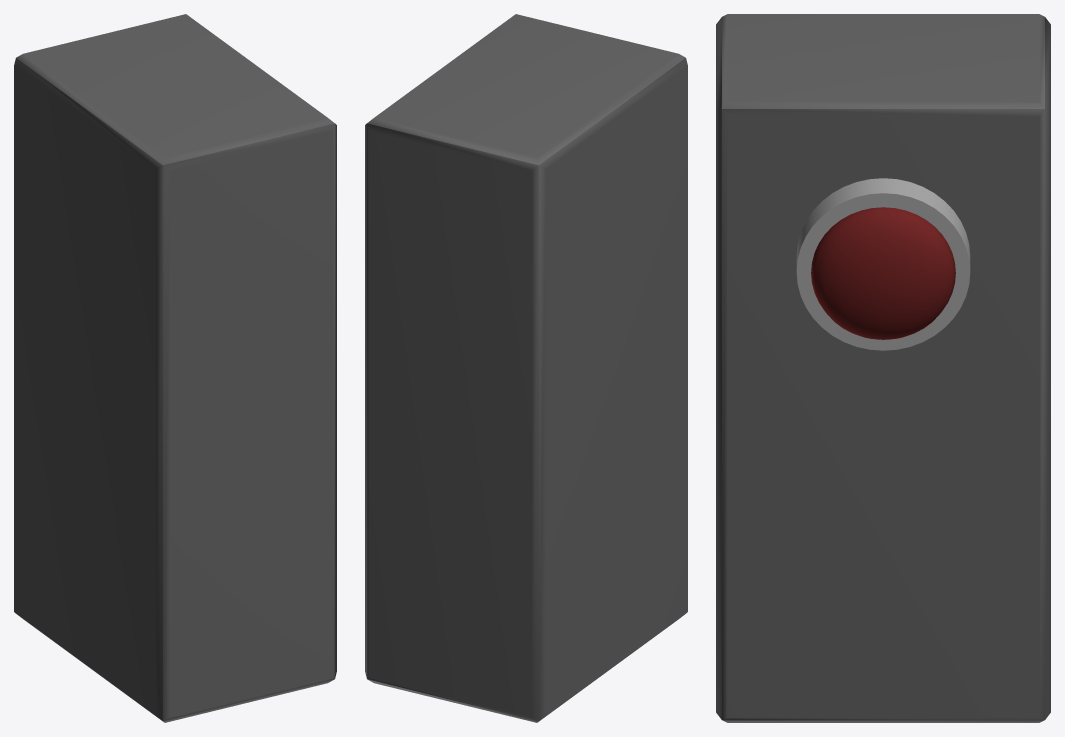
Rendered from botonera.fbx.
3 renders of one model, left to right at view 1: azimuth 30°, elevation 25°; view 2: azimuth 150°, elevation 25°; view 3: azimuth 270°, elevation 25°, orthographic. The views are drawn at different scales.
Visible parts, largest first — view 1: botonera; view 2: botonera; view 3: botonera, boton.
Part boxes in pixels (x1,y1,x2,y2): botonera: (14,14,336,722); botonera: (365,14,687,722); botonera: (716,14,1050,722); boton: (811,207,955,339).
Bounding box in the file's own units: 0.8519 × 1.96 × 0.9574.
